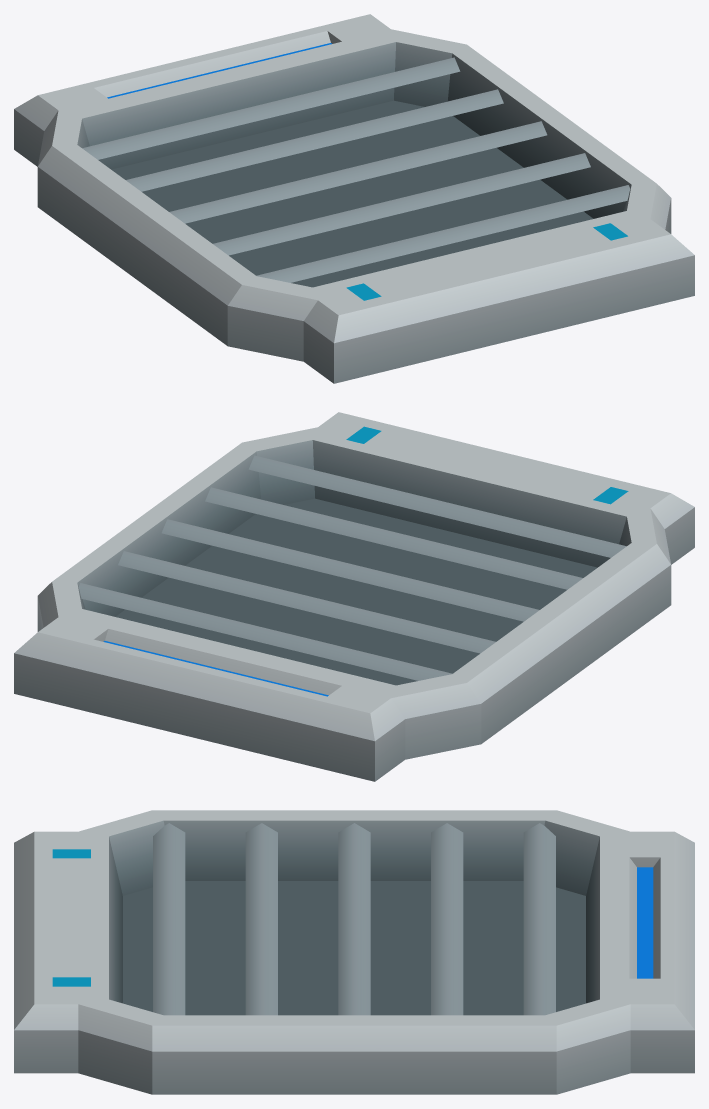
The model's file is Ventilation_006.glb.
3 views of the same model, one above another, from view 1: azimuth 30°, elevation 25°; view 2: azimuth 150°, elevation 25°; view 3: azimuth 270°, elevation 25° (orthographic). The views are drawn at different scales.
Visible parts, largest first — view 1: Ventilation_006; view 2: Ventilation_006; view 3: Ventilation_006.
Part boxes in pixels (x1,y1,x2,y2): Ventilation_006: (14,14,694,383); Ventilation_006: (14,412,694,781); Ventilation_006: (14,810,694,1094).
Bounding box in the file's own units: 0.8 × 0.1 × 1.
Materials: 2 (2 with a texture image).
